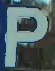Parking: (4, 0, 51, 70)
